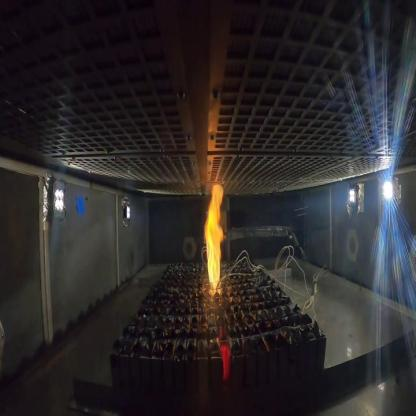fire: (203, 184, 227, 293)
